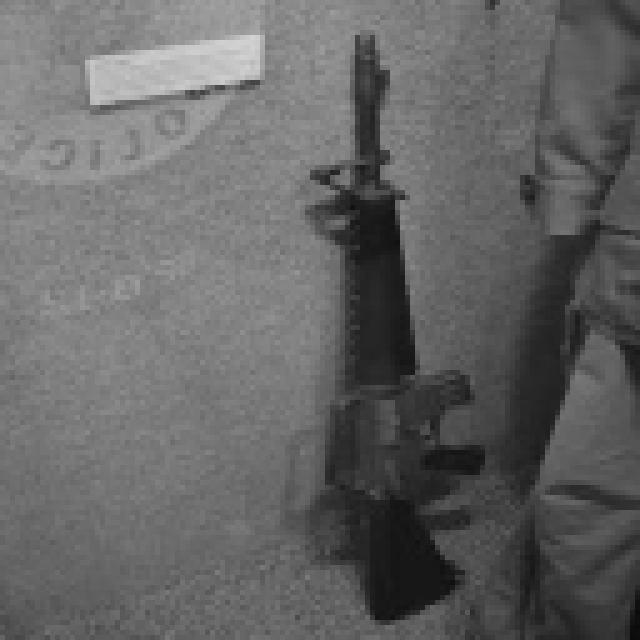Rifle: (286, 0, 538, 640)
